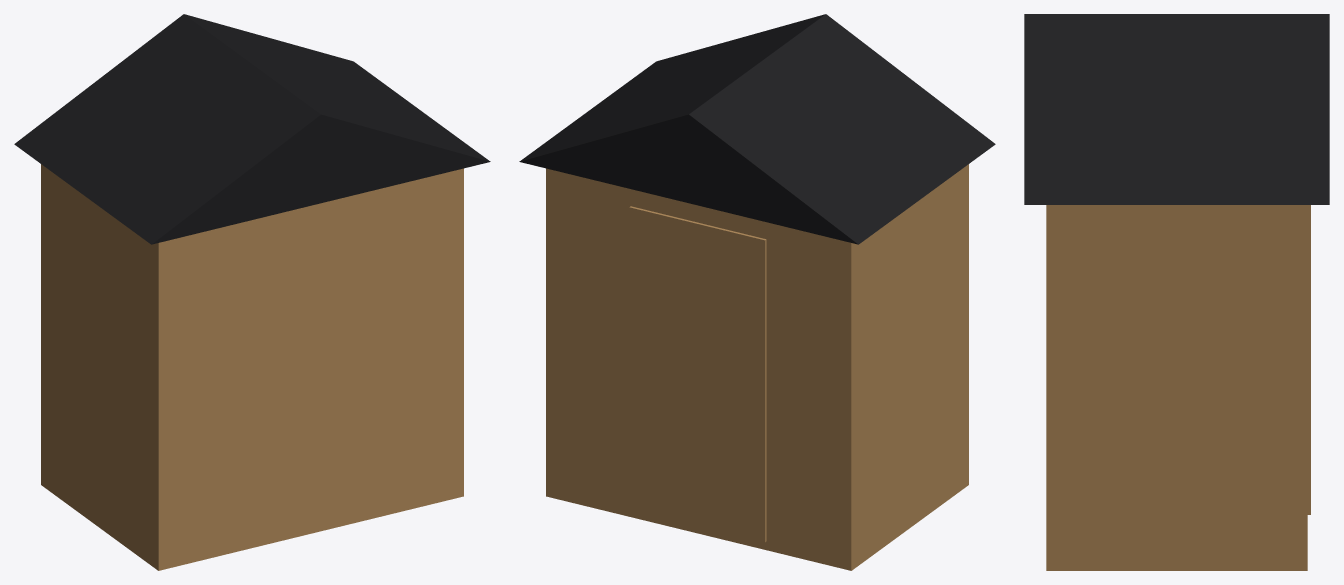
File: home.garden.shed_small.glb
3 renders of one model, left to right at view 1: azimuth 30°, elevation 25°; view 2: azimuth 150°, elevation 25°; view 3: azimuth 270°, elevation 25°, orthographic. The views are drawn at different scales.
Parts seen in each view (by area): view 1: main__softwood, main__roof_felt; view 2: main__softwood, main__roof_felt; view 3: main__softwood, main__roof_felt.
Boxes of the visible parts, x1,y1,x2,y2 form: main__softwood: (41, 164, 463, 570); main__roof_felt: (14, 14, 490, 244); main__softwood: (546, 164, 968, 570); main__roof_felt: (519, 14, 995, 244); main__softwood: (1046, 205, 1310, 570); main__roof_felt: (1024, 14, 1329, 204).
Size of the model in its own units: 2 by 2.4 by 1.4.
